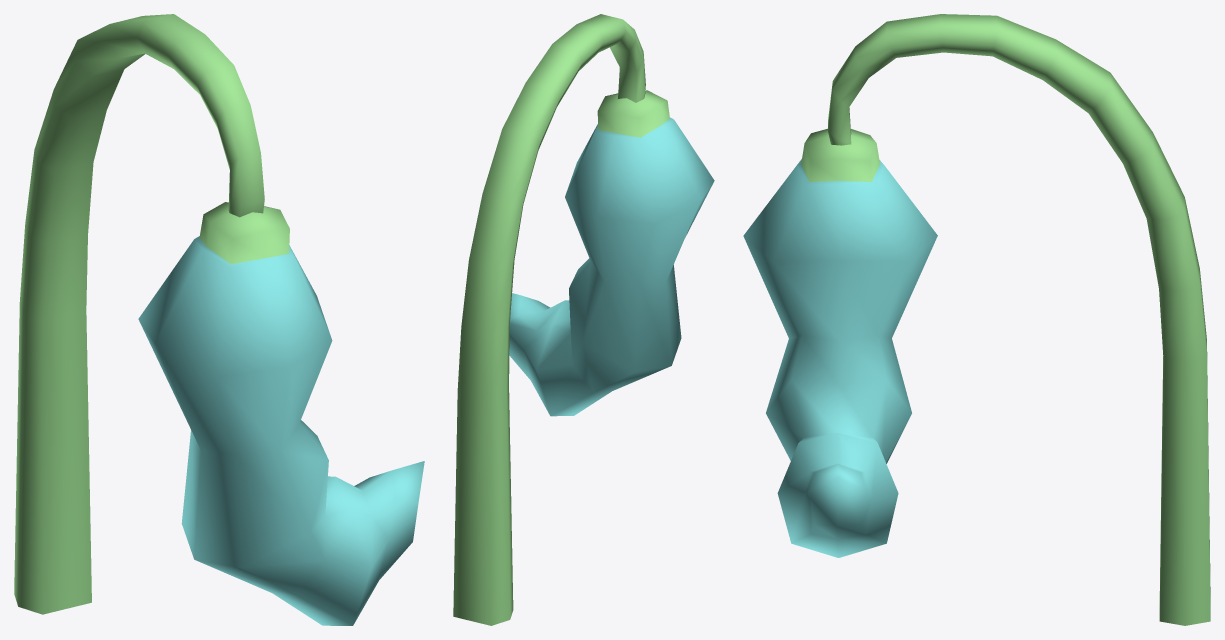
Rendered from ColdFruit.fbx.
3 renders of one model, left to right at view 1: azimuth 30°, elevation 25°; view 2: azimuth 150°, elevation 25°; view 3: azimuth 270°, elevation 25°, orthographic. The views are drawn at different scales.
Parts seen in each view (by area): view 1: ColdFruit_Item_LOD0, ColdFruit_Base_LOD0; view 2: ColdFruit_Item_LOD0, ColdFruit_Base_LOD0; view 3: ColdFruit_Item_LOD0, ColdFruit_Base_LOD0.
Part boxes in pixels (x1,y1,x2,y2): ColdFruit_Item_LOD0: (138, 202, 424, 625); ColdFruit_Base_LOD0: (14, 14, 264, 614); ColdFruit_Item_LOD0: (509, 90, 714, 416); ColdFruit_Base_LOD0: (453, 14, 645, 625); ColdFruit_Item_LOD0: (743, 128, 937, 557); ColdFruit_Base_LOD0: (828, 14, 1210, 625).
Size of what is drawn, in the model's own units: 0.1922 by 0.4518 by 0.3241.
